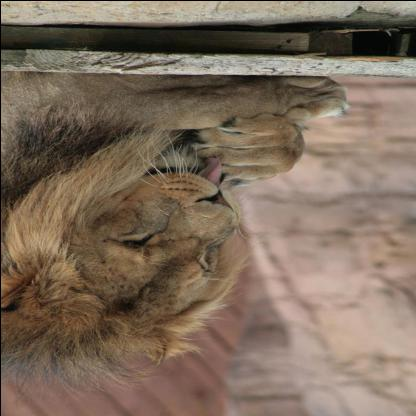lion: (0, 141, 244, 361)
